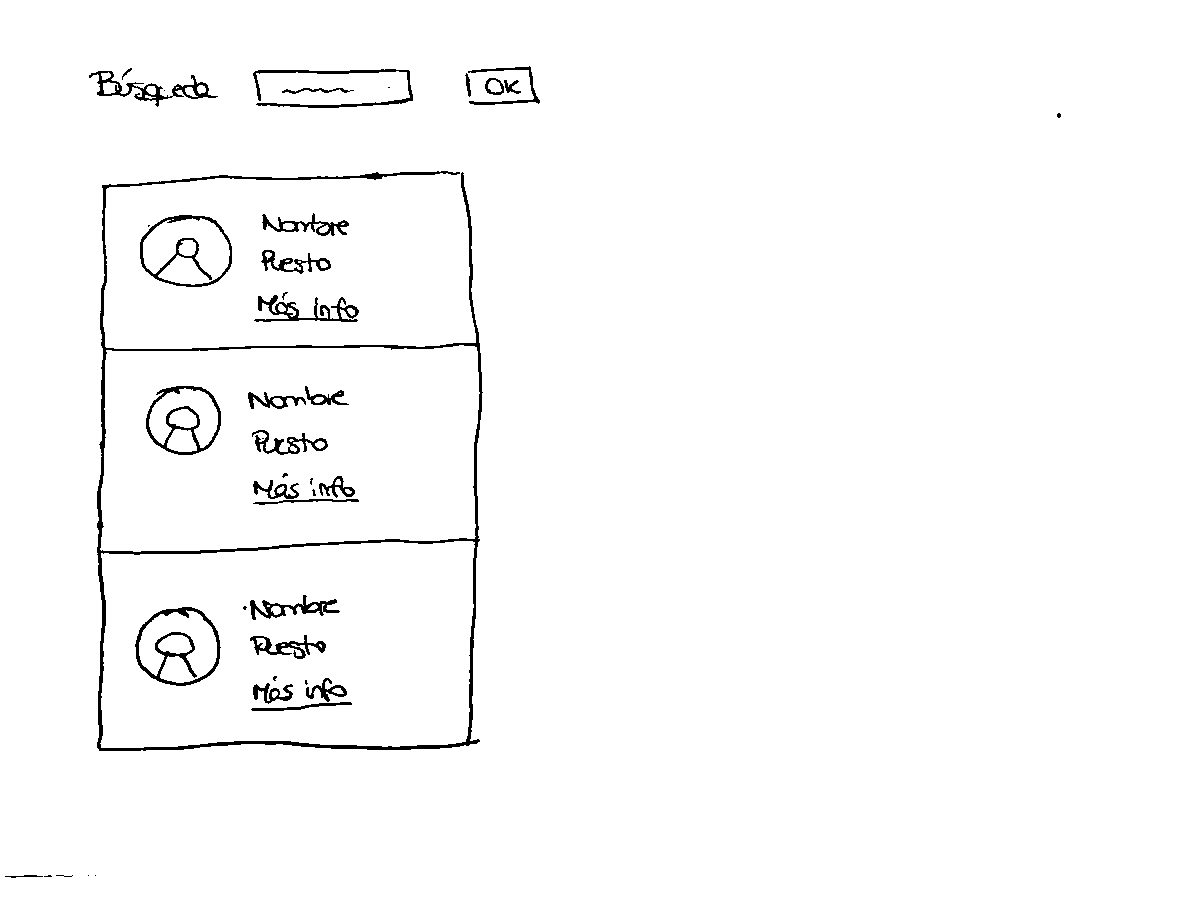Button: (457, 57, 542, 107)
